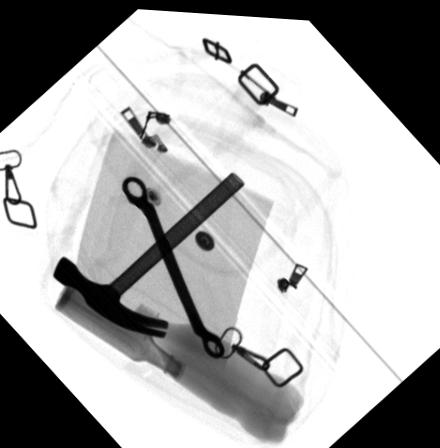Hammer: (52, 167, 243, 334)
Wrench: (121, 172, 223, 354)
